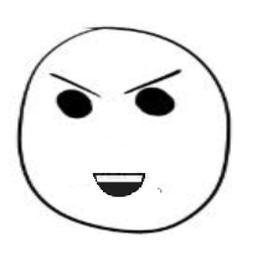eye: (51, 86, 94, 123), (133, 86, 180, 118)
frowning_eyebrow: (43, 68, 103, 100), (124, 67, 183, 97)
open_mouth: (89, 164, 152, 206)
